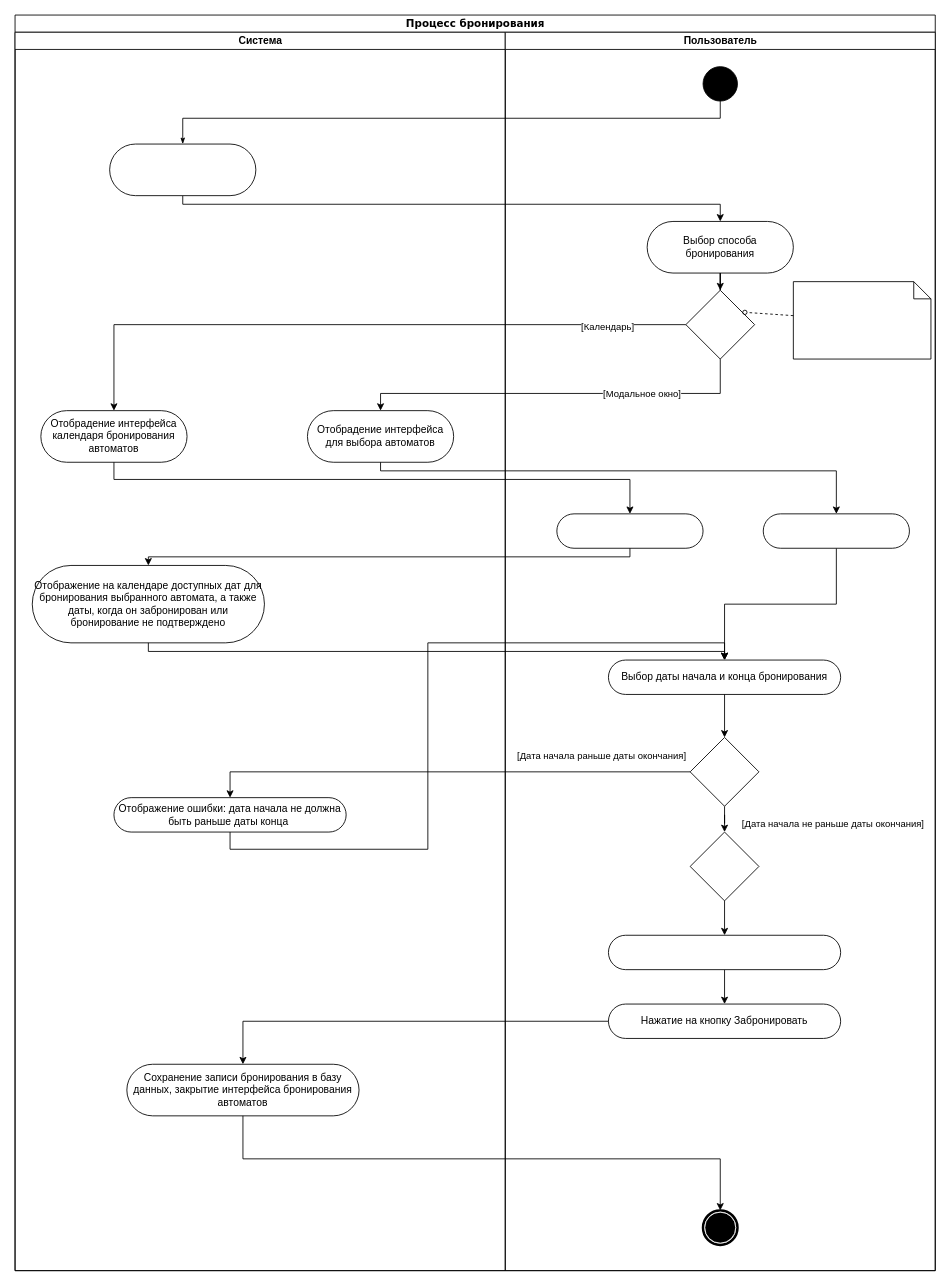
Some shapes in this 950 by 1286 pixel diagram are drawn without their labels. Each missing label, with the centre of its shape:
"Выбор автомата" belongs at point 629,530.
"Выбор автоматов" belongs at point 835,530.
"Показ интерфейса для выбора способа бронирования автоматов" belongs at point 182,169.
"Пользователь выбирает способ броинрования: модальное окно или календарь" belongs at point 861,320.
"Указание наличия страховки, способ ведения франшизы" belongs at point 724,952.
